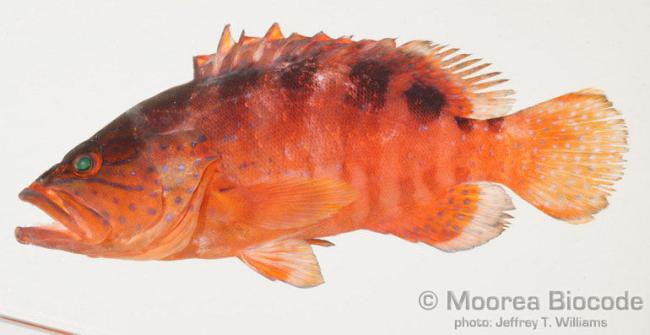fish: (13, 21, 628, 287)
